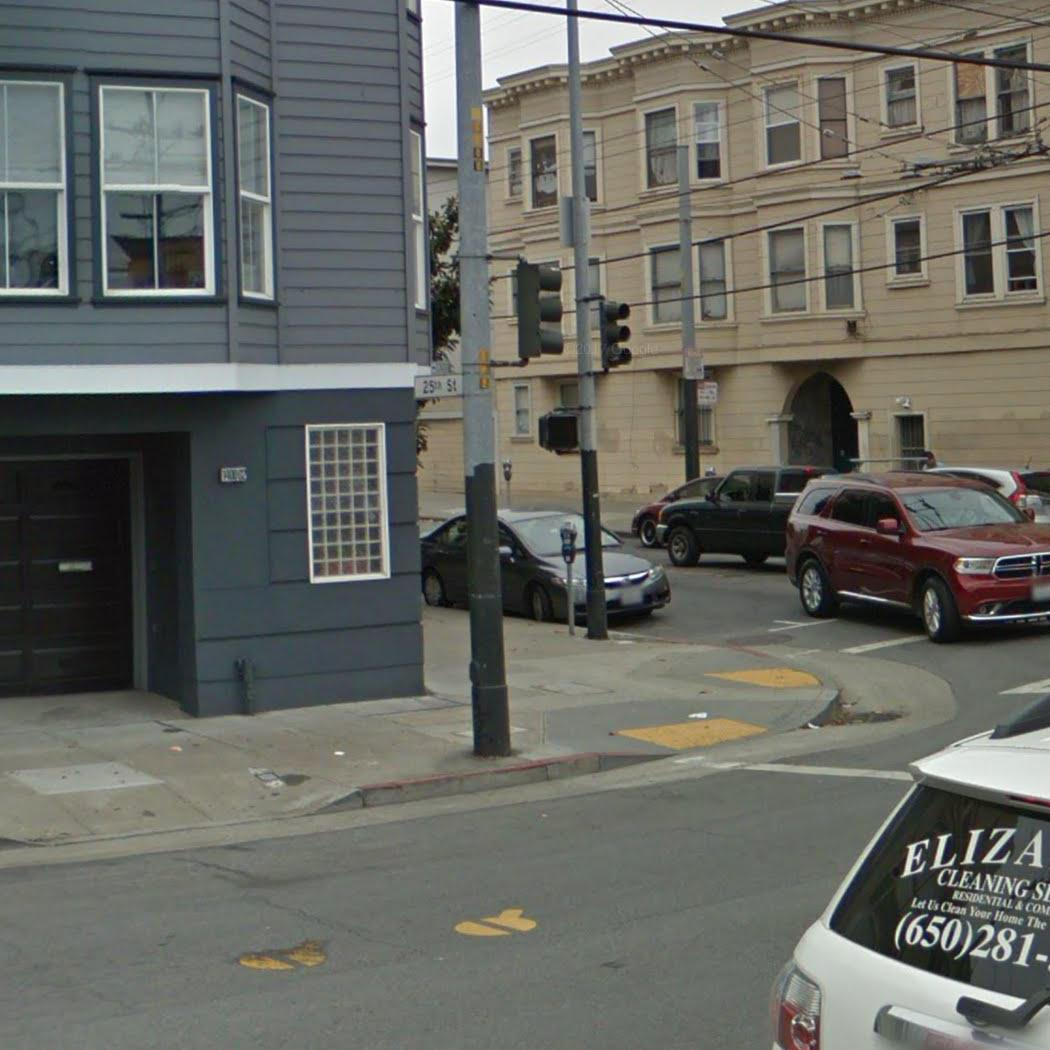No Parking: (694, 382, 720, 407)
